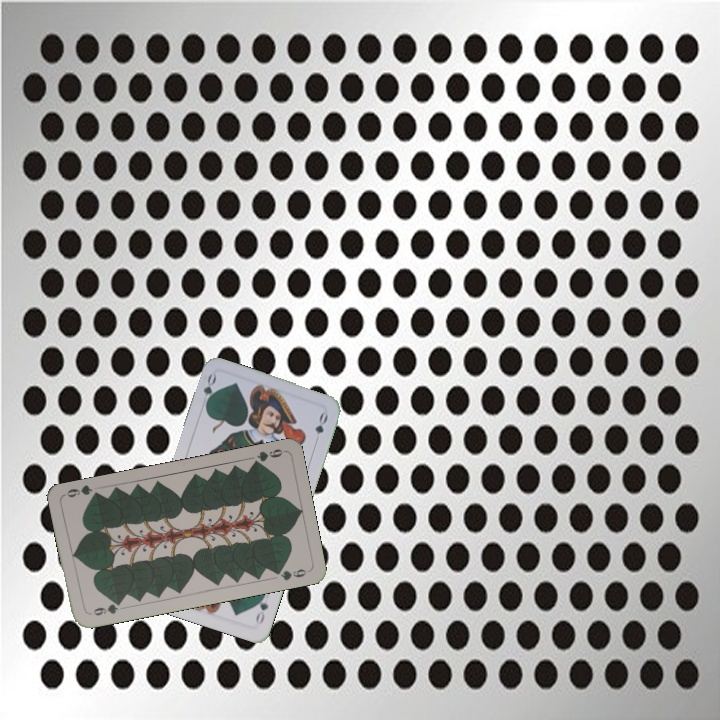G9: (248, 445, 287, 468), (85, 598, 124, 618)
GO: (197, 370, 219, 411), (251, 587, 271, 627)
